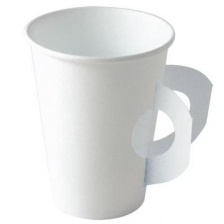paper_cup: (18, 0, 216, 224)
